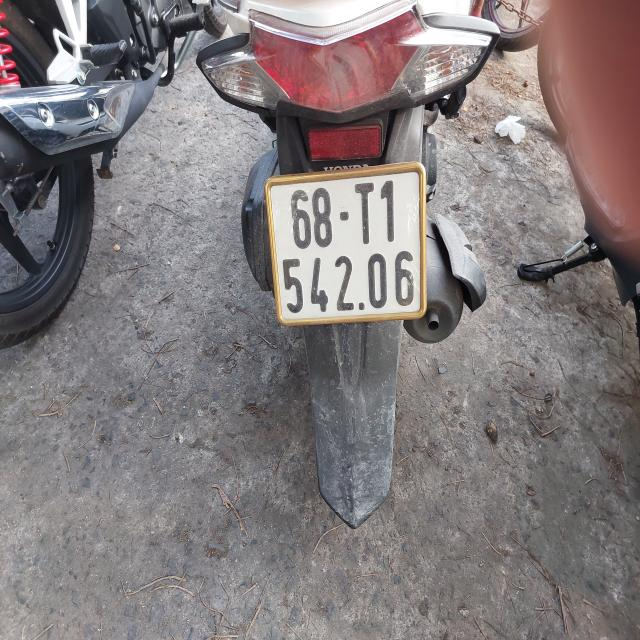0: (367, 253, 387, 309)
1: (379, 180, 396, 243)
2: (333, 256, 355, 310)
4: (310, 256, 327, 312)
5: (281, 258, 305, 314)
6: (290, 190, 312, 250), (395, 250, 414, 306)
8: (312, 188, 333, 248)
T: (355, 181, 374, 245)
